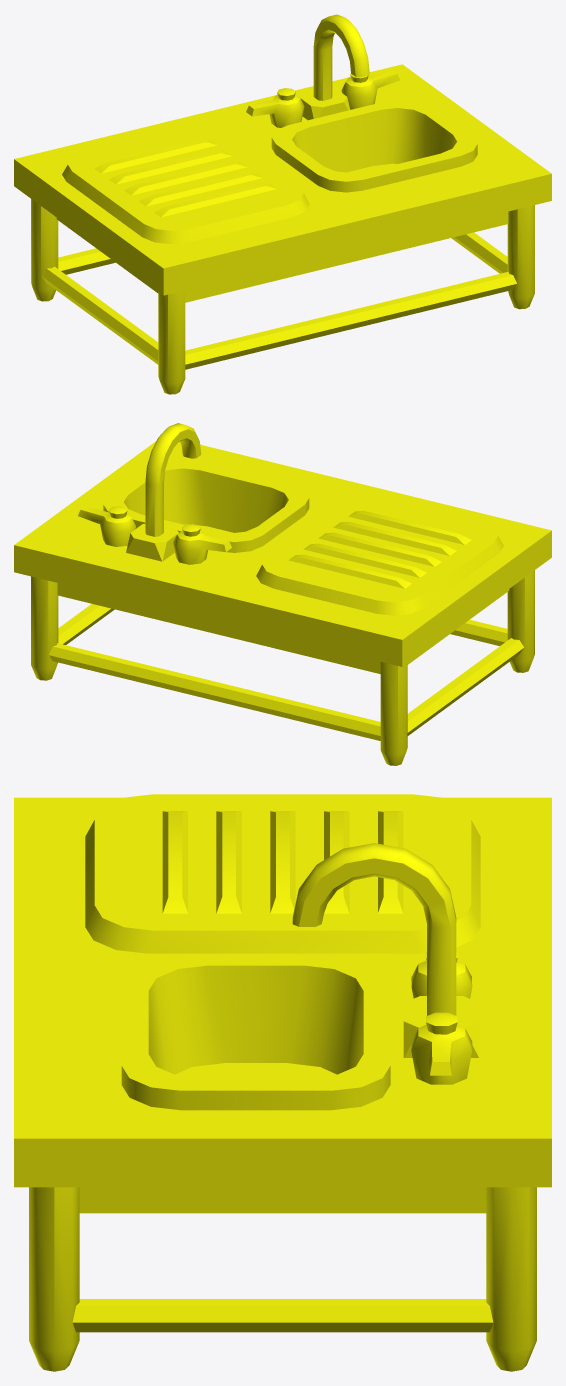
File: kaykit-kitchentable-sink-large.glb
3 views of the same model, one above another, from view 1: azimuth 30°, elevation 25°; view 2: azimuth 150°, elevation 25°; view 3: azimuth 270°, elevation 25° (orthographic). The views are drawn at different scales.
Visible parts, largest first — view 1: kitchentable_sink_large; view 2: kitchentable_sink_large; view 3: kitchentable_sink_large.
Part boxes in pixels (x1=…): kitchentable_sink_large: x1=14, y1=14, x2=551, y2=394; kitchentable_sink_large: x1=14, y1=423, x2=551, y2=765; kitchentable_sink_large: x1=14, y1=794, x2=551, y2=1371.
Size of the model in its own units: 3 by 1.8 by 2.
